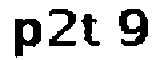2: (45, 7, 78, 52)
9: (112, 9, 151, 51)
p: (10, 17, 45, 60)
t: (78, 11, 102, 51)
